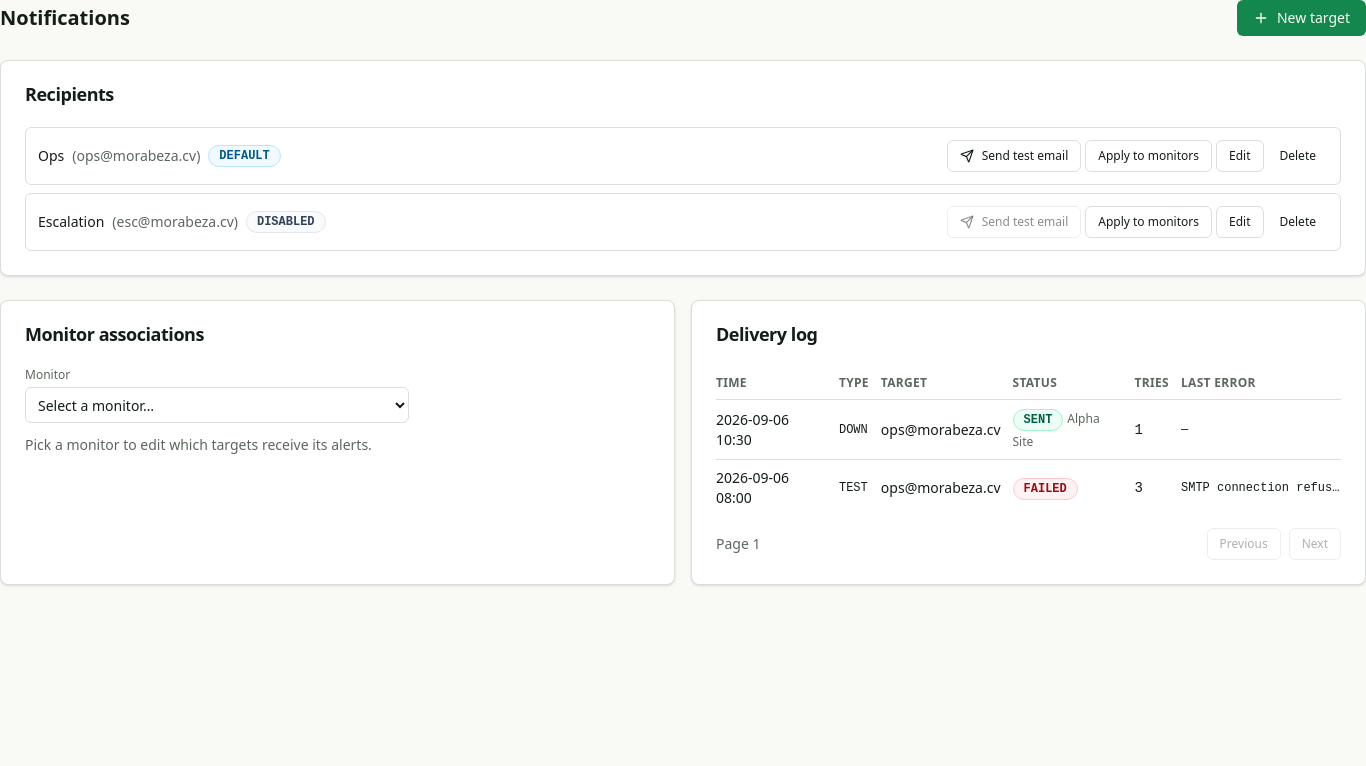
Scenario: NotificationsPage (PRD §27.9) › bulk-apply panel: unchecking a mapped monitor removes the target without touching others
Click the button "Apply to monitors" in the row of "DEFAULT" at (1149, 156), box top-left (1085, 140), bottom-right (1212, 172)
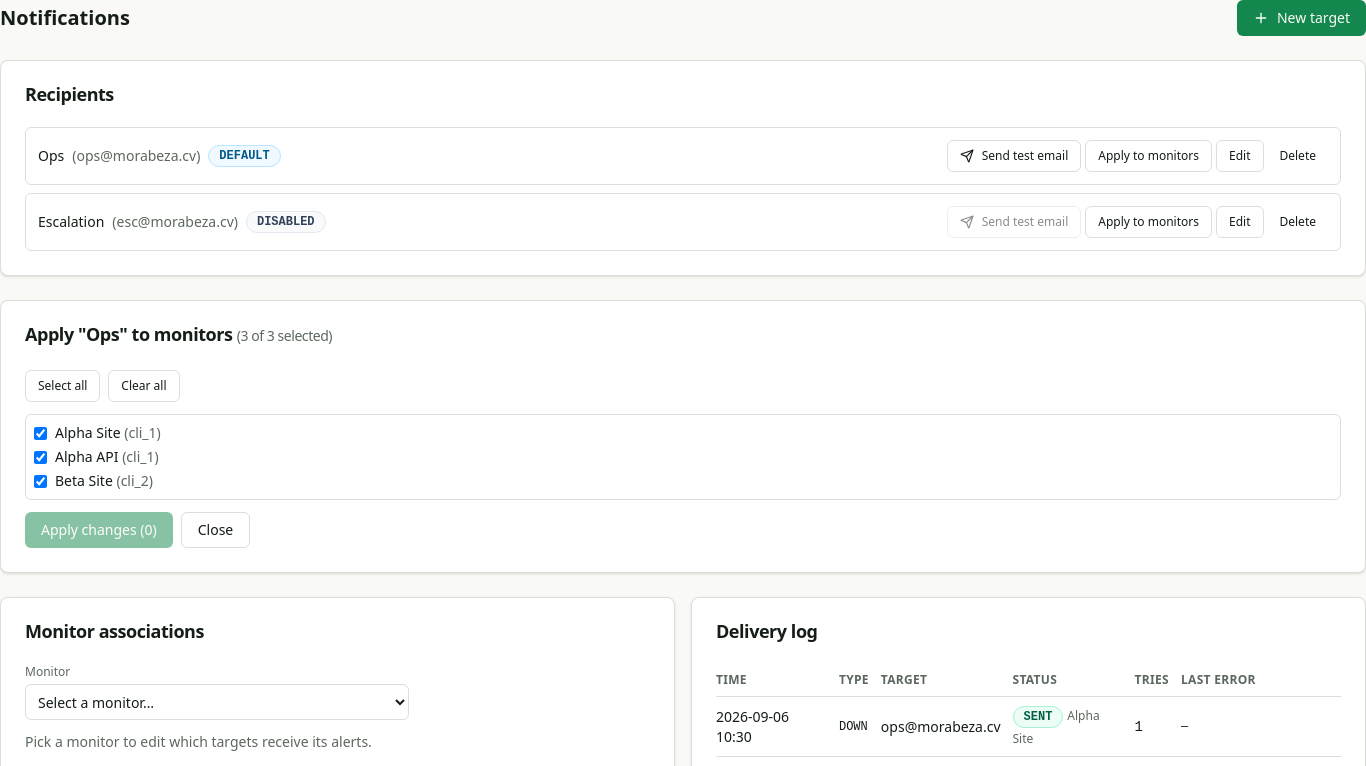
Click the checkbox labelled "Beta Site (cli_2)" at (40, 481), box top-left (34, 474), bottom-right (47, 488)
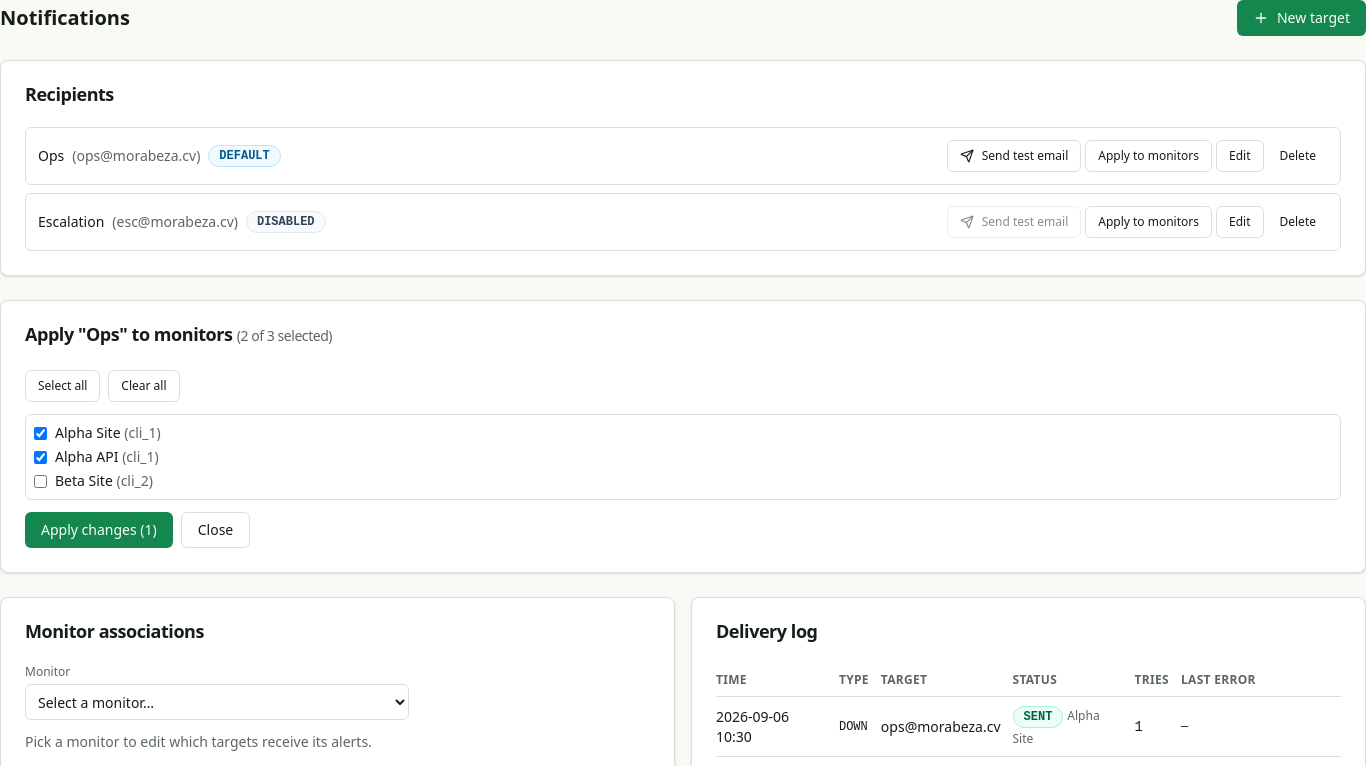
Click the button "Apply changes (1)" at (99, 530), box top-left (25, 512), bottom-right (173, 548)
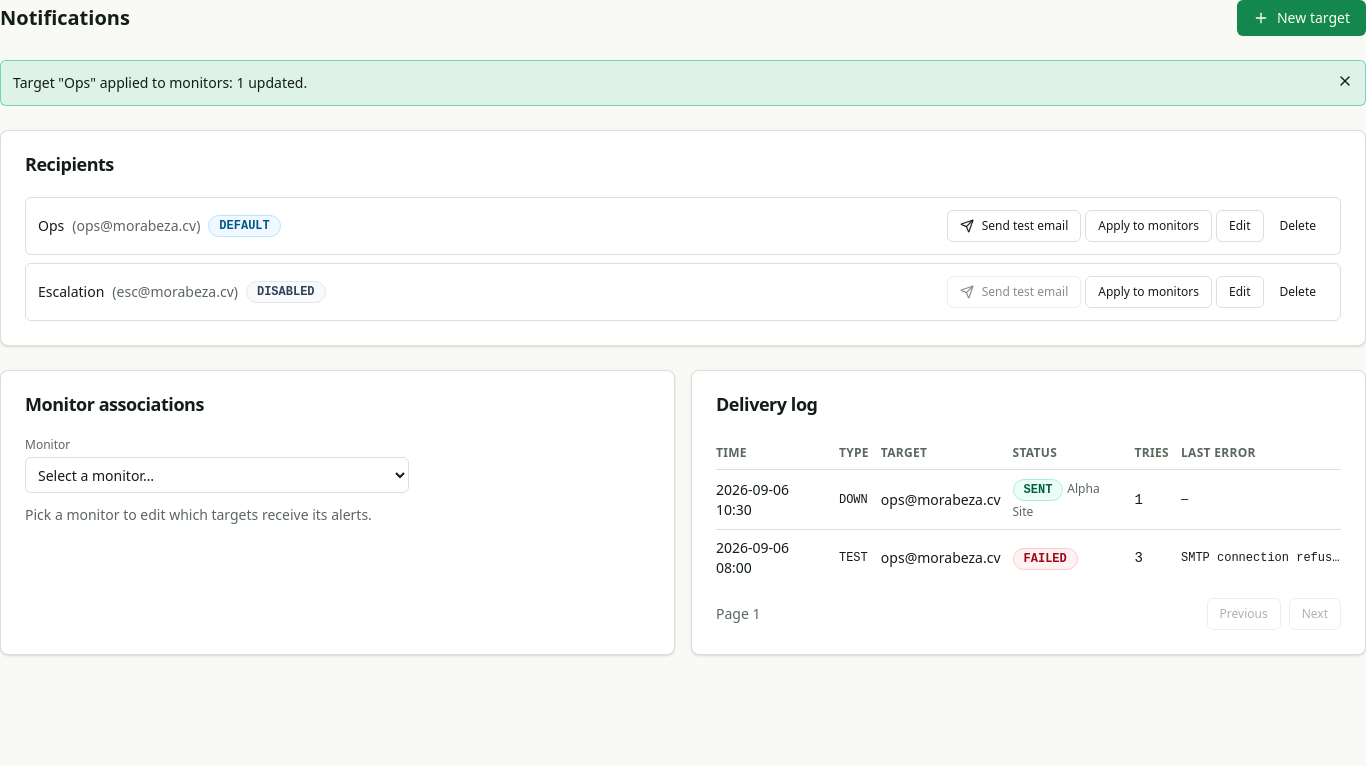
Expected: the message "Target \"Ops\" applied to monitors: 1 updated." is shown, top-left (0, 60), bottom-right (1365, 106)
